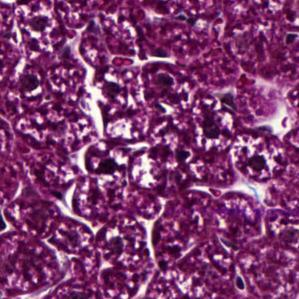inflammation: (93, 69, 136, 111), (234, 150, 275, 187), (14, 67, 47, 100), (21, 11, 61, 38), (90, 153, 129, 178)
